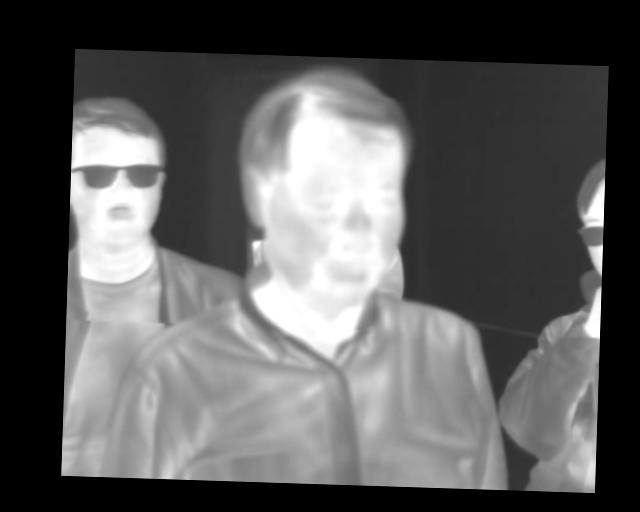face: (234, 64, 416, 319), (68, 92, 172, 251)
